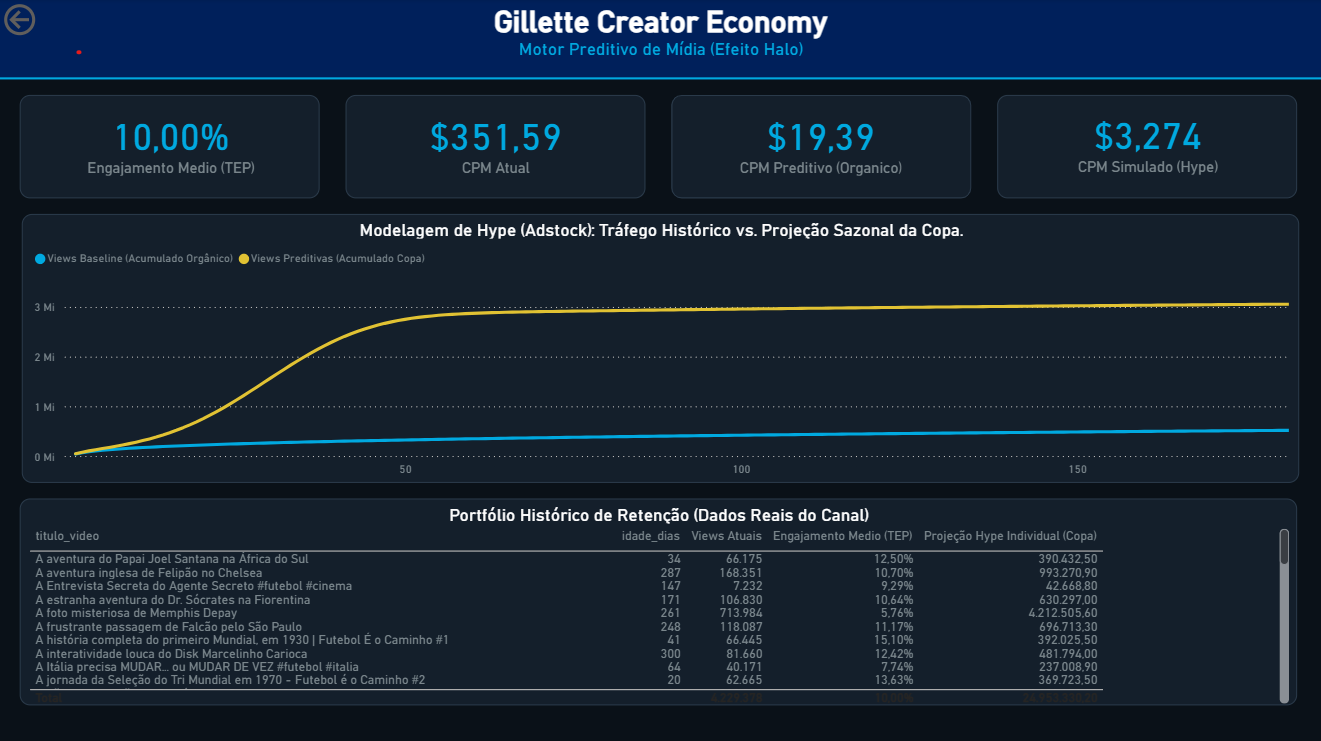

The dashboard page shown, as its layout file describes it:
{"tool":"powerbi","page":{"name":"01. Eficiência de Mídia (Adstock","canvas":[1280,720],"ordinal":0},"visuals":[{"type":"cardVisual","fields":{"Data":["_Medidas.Engajamento Medio (TEP)"]},"box":[24.7,91.6,282.2,98.9],"z":0},{"type":"cardVisual","fields":{"Data":["_Medidas.CPV Atual"]},"box":[338.9,91.6,282.2,98.9],"z":1000},{"type":"cardVisual","fields":{"Data":["_Medidas.CPV Preditivo (Organico)"]},"box":[653.1,91.6,282.2,98.9],"z":2000},{"type":"cardVisual","fields":{"Data":["_Medidas.CPV Simulado (Hype)"]},"box":[969.7,91.3,282.3,99.8],"z":3000},{"type":"lineStackedColumnComboChart","title":"Modelagem de Hype (Adstock): Tráfego Histórico vs. Projeção Sazonal da Copa.","fields":{"Category":["Dim_Idade_Dias.Idade do Video"],"Y2":["_Medidas.Views Baseline (Acumulado Orgânico)","_Medidas.Views Preditivas (Acumulado Copa)"]},"box":[28.9,212.3,1223.2,255.1],"z":4000},{"type":"tableEx","title":"Portfólio Histórico de Retenção (Dados Reais do Canal)","fields":{"Values":["Fato_Performance_Videos.titulo_video","Fato_Performance_Videos.idade_dias","_Medidas.Views Atuais","_Medidas.Engajamento Medio (TEP)","_Medidas.Projeção Hype Individual (Copa)"]},"box":[24.6,488.3,1228,197.9],"z":5000},{"type":"textbox","box":[0,0,1280,73.9],"z":6000},{"type":"actionButton","box":[0,0,100,40],"z":7000}]}

Visuals, with their boxes in screenshot pixels (x1, y1, x2, y2), scaled from the page's 1280x720 canvas onto the 1321x741 screenshot:
cardVisual - _Medidas.Engajamento Medio (TEP): (left=25, top=94, right=317, bottom=196)
cardVisual - _Medidas.CPV Atual: (left=350, top=94, right=641, bottom=196)
cardVisual - _Medidas.CPV Preditivo (Organico): (left=674, top=94, right=965, bottom=196)
cardVisual - _Medidas.CPV Simulado (Hype): (left=1001, top=94, right=1292, bottom=197)
"Modelagem de Hype (Adstock): Tráfego Histórico vs. Projeção Sazonal da Copa." lineStackedColumnComboChart: (left=30, top=218, right=1292, bottom=481)
"Portfólio Histórico de Retenção (Dados Reais do Canal)" tableEx: (left=25, top=503, right=1293, bottom=706)
textbox: (left=0, top=0, right=1320, bottom=76)
actionButton: (left=0, top=0, right=103, bottom=41)
